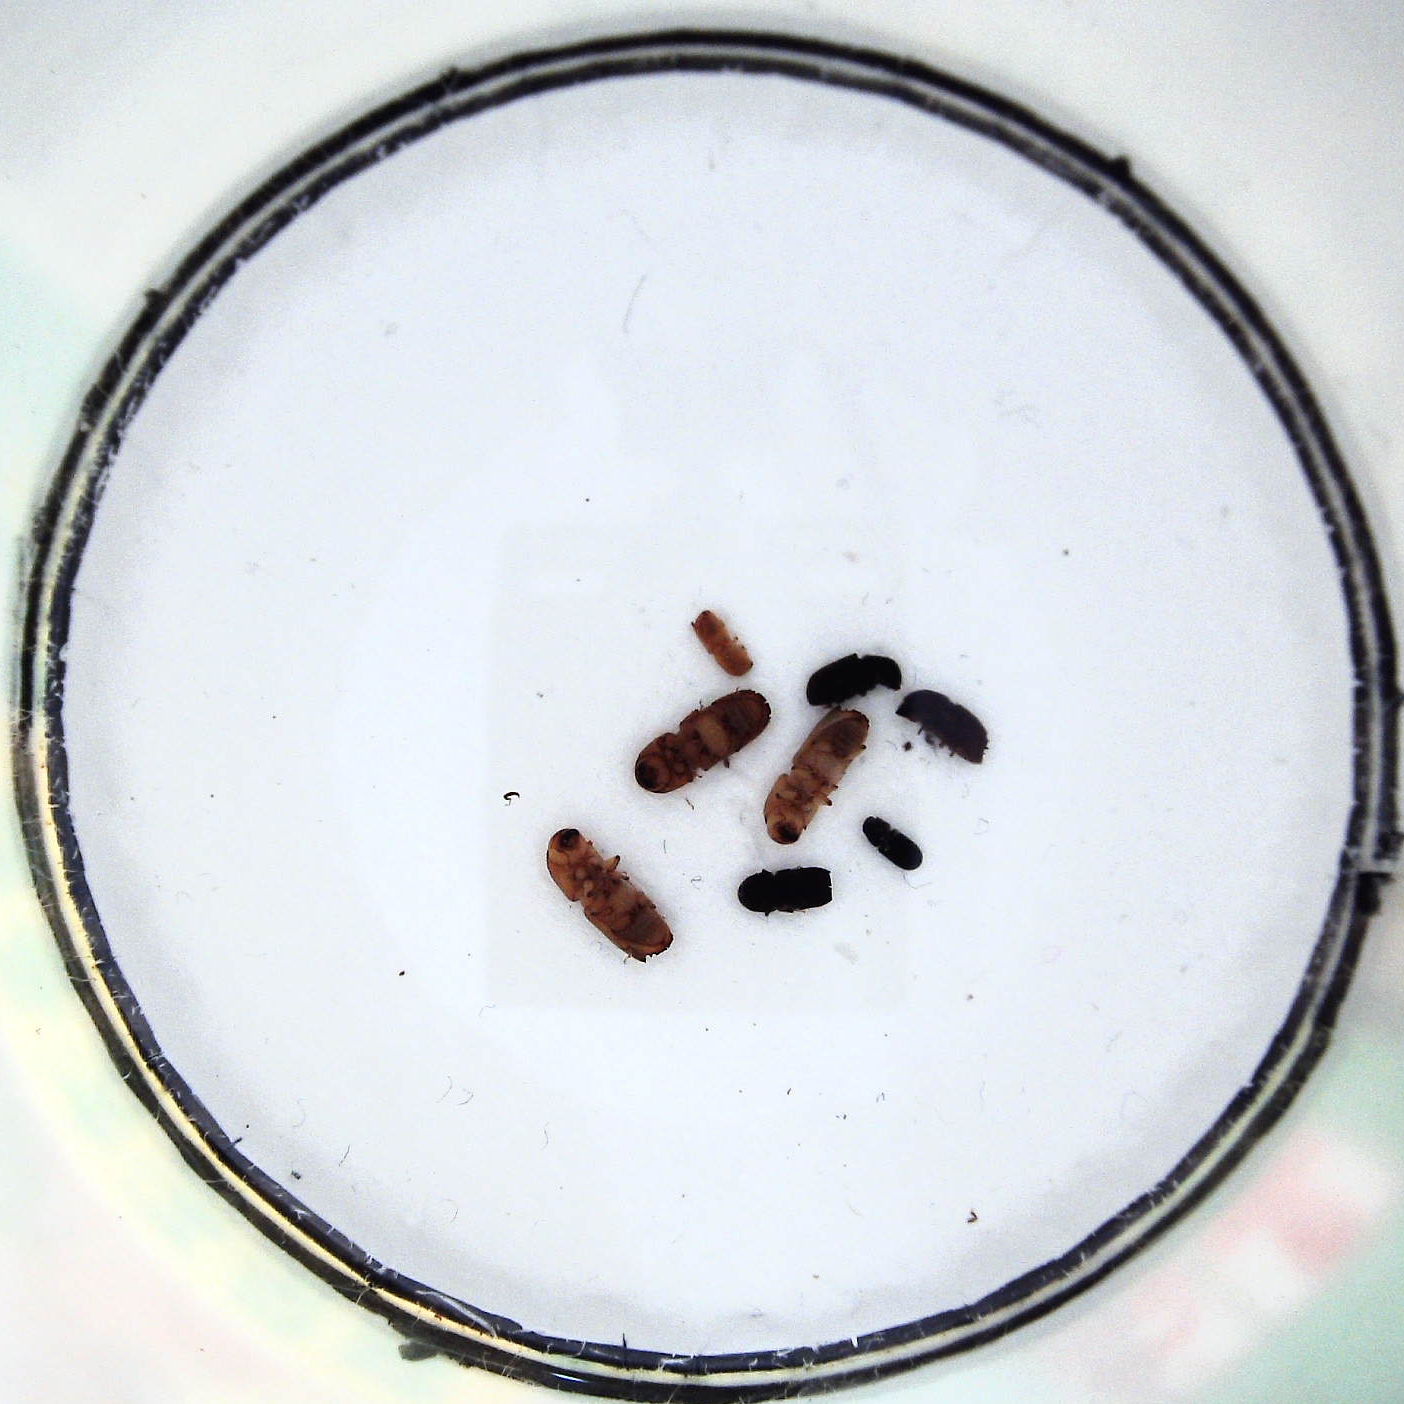Boerner: (545, 825, 675, 963), (764, 708, 873, 845), (634, 687, 771, 795)
Linnaeus: (897, 690, 989, 764), (737, 867, 834, 915)
acuminatus: (689, 606, 756, 678)
armandi: (804, 654, 905, 710)
coleoptera: (864, 815, 924, 873)
